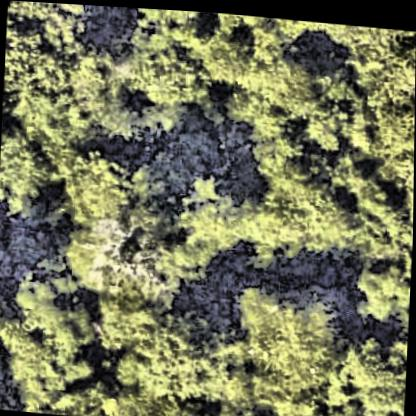tree-top: (236, 267, 351, 415), (142, 302, 250, 402), (264, 152, 362, 261), (3, 0, 86, 93), (65, 43, 145, 139), (173, 174, 249, 259), (57, 144, 135, 226), (346, 318, 409, 416), (96, 277, 168, 358), (296, 179, 367, 259), (348, 27, 416, 107), (366, 85, 415, 194), (137, 32, 210, 105), (191, 20, 267, 89), (0, 130, 58, 218), (259, 56, 326, 125), (26, 293, 103, 350), (352, 255, 412, 327), (8, 81, 71, 149), (154, 394, 229, 416), (141, 7, 212, 30), (0, 284, 20, 363)
